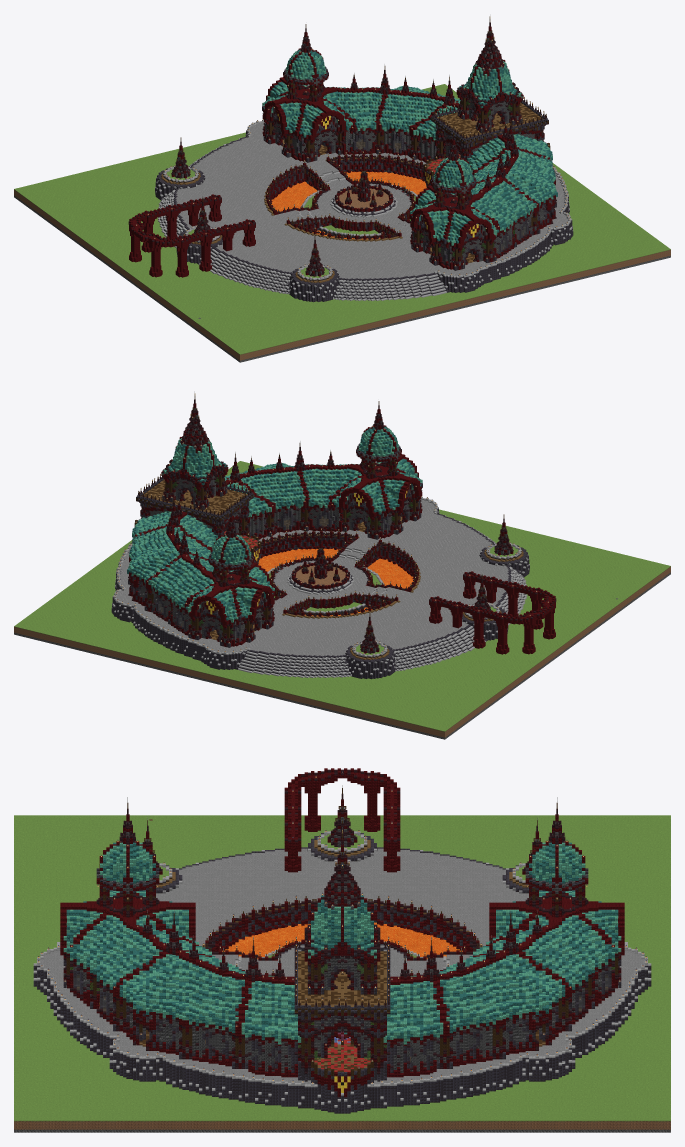
Rendered from hub.glb.
3 renders of one model, top to bottom at view 1: azimuth 30°, elevation 25°; view 2: azimuth 150°, elevation 25°; view 3: azimuth 270°, elevation 25°, orthographic. The views are drawn at different scales.
Visible parts, largest first — view 1: Grass_Block, Red_Nether_Bricks, Cobblestone, Stone, Polished_Blackstone, Warped_Planks, Oxidized_Cut_Copper, Stone_Slab, Nether_Brick_Stairs, Nether_Brick_Slab, Dirt, Deepslate_Bricks (+13 smaller); view 2: Grass_Block, Red_Nether_Bricks, Cobblestone, Stone, Polished_Blackstone, Warped_Planks, Oxidized_Cut_Copper, Stone_Slab, Nether_Brick_Stairs, Nether_Brick_Slab, Dirt, Deepslate_Bricks (+13 smaller); view 3: Grass_Block, Red_Nether_Bricks, Polished_Blackstone, Warped_Planks, Oxidized_Cut_Copper, Stone, Cobblestone, Nether_Brick_Stairs, Deepslate_Bricks, Nether_Brick_Slab, Stone_Slab, Dirt (+14 smaller).
Boxes of the visible parts, x1,y1,x2,y2 form: Grass_Block: [14, 84, 670, 356]; Red_Nether_Bricks: [128, 26, 555, 277]; Cobblestone: [176, 122, 567, 279]; Stone: [175, 123, 568, 279]; Polished_Blackstone: [155, 92, 573, 302]; Warped_Planks: [263, 49, 557, 243]; Oxidized_Cut_Copper: [262, 50, 556, 245]; Stone_Slab: [155, 121, 573, 300]; Nether_Brick_Stairs: [171, 32, 556, 276]; Nether_Brick_Slab: [128, 48, 556, 272]; Dirt: [14, 188, 670, 360]; Deepslate_Bricks: [172, 31, 550, 276]; Grass_Block: [14, 461, 670, 733]; Red_Nether_Bricks: [129, 403, 556, 654]; Cobblestone: [117, 499, 508, 656]; Stone: [116, 500, 509, 656]; Polished_Blackstone: [111, 469, 529, 679]; Warped_Planks: [127, 426, 421, 620]; Oxidized_Cut_Copper: [128, 427, 422, 622]; Stone_Slab: [111, 498, 529, 677]; Nether_Brick_Stairs: [128, 409, 513, 653]; Nether_Brick_Slab: [128, 425, 556, 649]; Dirt: [14, 565, 670, 737]; Deepslate_Bricks: [134, 408, 512, 653]; Grass_Block: [14, 815, 670, 1123]; Red_Nether_Bricks: [60, 768, 624, 1097]; Polished_Blackstone: [33, 833, 651, 1113]; Warped_Planks: [66, 840, 618, 1040]; Oxidized_Cut_Copper: [63, 842, 621, 1044]; Stone: [40, 848, 644, 1084]; Cobblestone: [40, 848, 644, 1084]; Nether_Brick_Stairs: [63, 808, 621, 1074]; Deepslate_Bricks: [63, 817, 621, 1072]; Nether_Brick_Slab: [70, 769, 614, 1069]; Stone_Slab: [33, 831, 651, 1107]; Dirt: [14, 819, 670, 1129].
Bounding box in the file's own units: 219 × 86 × 199.
Materials: 95 (95 with a texture image).
